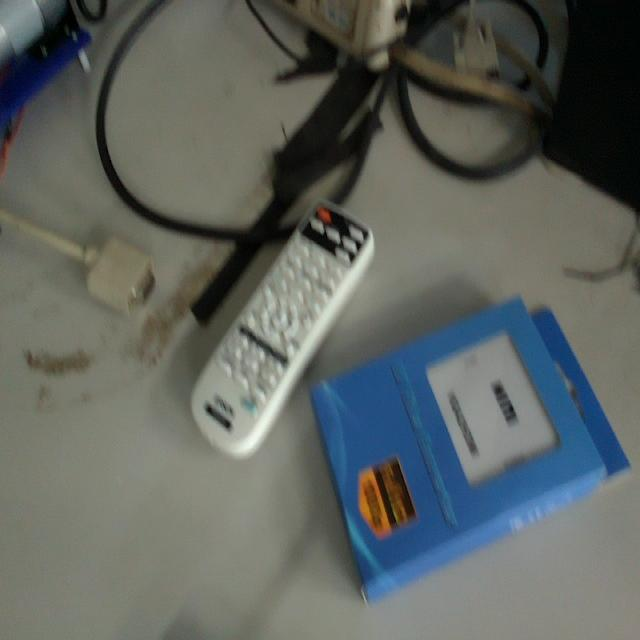remote: (313, 296, 633, 602), (190, 195, 372, 465)
